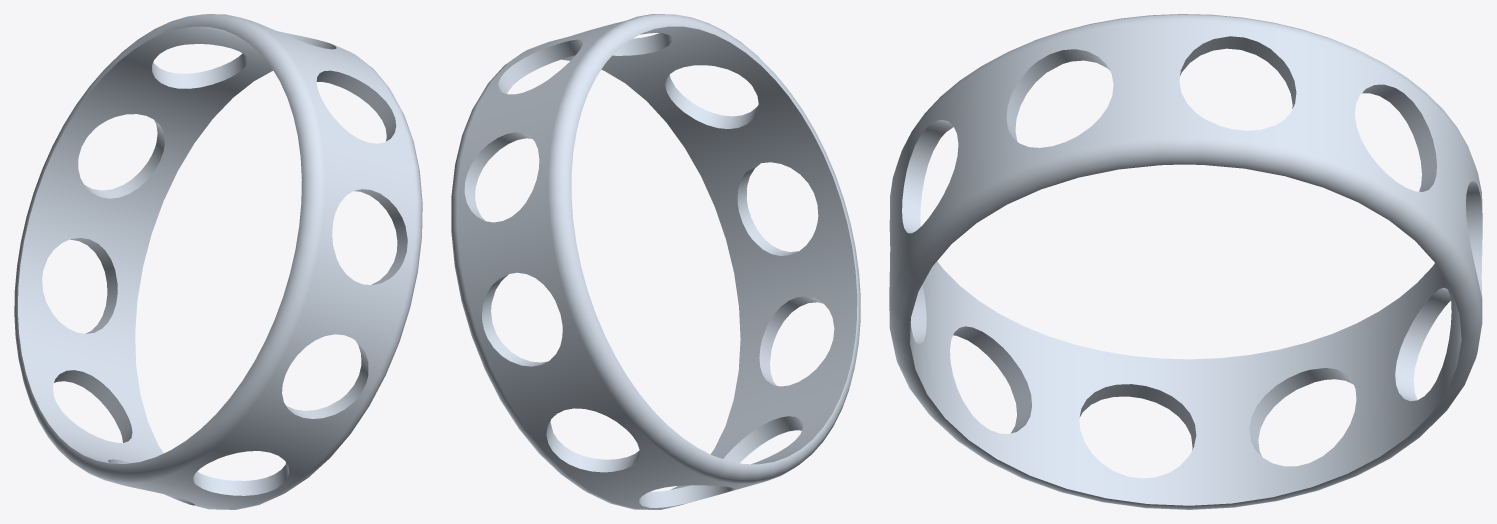
Rendered from RB-010_viewer.glb.
3 renders of one model, left to right at view 1: azimuth 30°, elevation 25°; view 2: azimuth 150°, elevation 25°; view 3: azimuth 270°, elevation 25°, orthographic. The views are drawn at different scales.
Parts seen in each view (by area): view 1: basebody_imported1; view 2: basebody_imported1; view 3: basebody_imported1.
Boxes of the visible parts, x1,y1,x2,y2 form: basebody_imported1: [14, 14, 422, 509]; basebody_imported1: [451, 14, 860, 509]; basebody_imported1: [889, 14, 1482, 509].
Bounding box in the file's own units: 0.00617 × 0.00881 × 0.00872.
